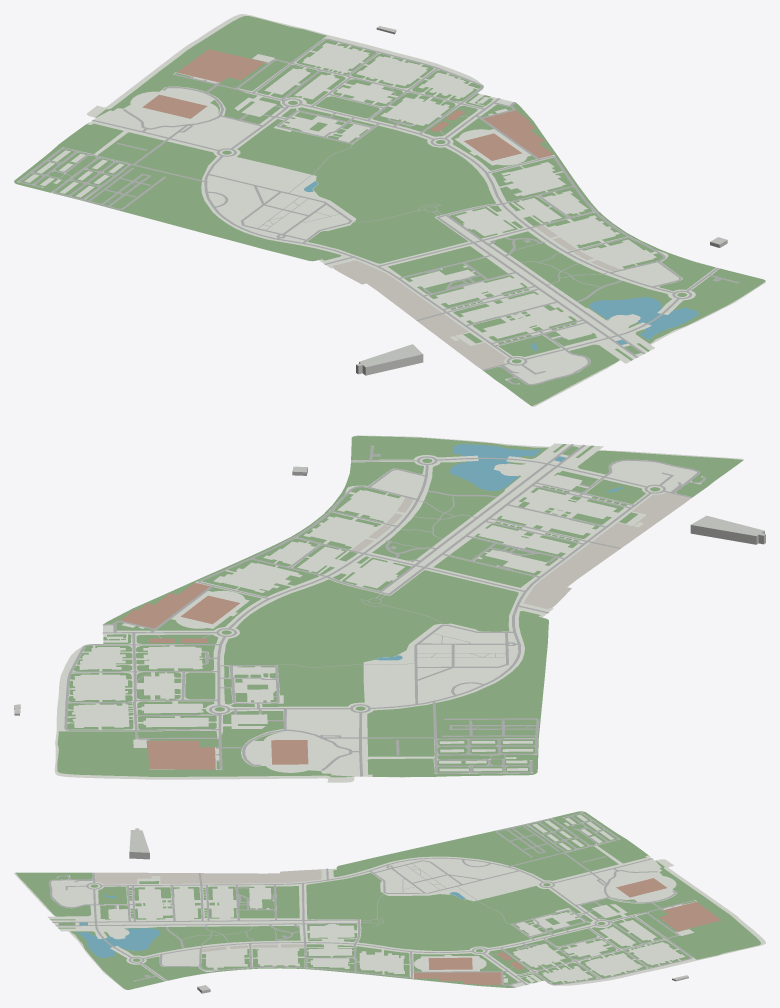
The model's file is campus-context.glb.
3 renders of one model, top to bottom at view 1: azimuth 30°, elevation 25°; view 2: azimuth 150°, elevation 25°; view 3: azimuth 270°, elevation 25°, orthographic. The views are drawn at different scales.
Parts seen in each view (by area): view 1: osm_way_89910254, osm_way_224938414, osm_relation_7226456, osm_way_225106603, osm_way_224937908, osm_way_224940397, osm_way_224939838, osm_way_224939486, osm_way_223859823, osm_way_224940111, osm_way_224937955, osm_way_278003316 (+9 smaller); view 2: osm_way_89910254, osm_way_224938414, osm_relation_7226456, osm_way_225106603, osm_way_224937908, osm_way_224940397, osm_way_224939838, osm_way_224939486, osm_way_223859823, osm_way_224940111, osm_way_278003316, osm_way_224937955 (+14 smaller); view 3: osm_way_89910254, osm_way_224938414, osm_relation_7226456, osm_way_225106603, osm_way_224937908, osm_way_224940397, osm_way_224939838, osm_way_224939486, osm_way_223859823, osm_way_224940111, osm_way_155412175_s0, osm_way_224937955 (+16 smaller).
Boxes of the visible parts, box(x1,y1,x2,y2) form: osm_way_89910254: box(17, 14, 765, 406); osm_way_224938414: box(237, 119, 495, 263); osm_relation_7226456: box(14, 123, 341, 261); osm_way_225106603: box(95, 16, 326, 117); osm_way_224937908: box(490, 231, 671, 320); osm_way_224940397: box(332, 260, 506, 369); osm_way_224939838: box(635, 268, 765, 343); osm_way_224939486: box(483, 344, 619, 406); osm_way_223859823: box(589, 297, 698, 340); osm_way_224940111: box(512, 103, 715, 291); osm_way_224937955: box(388, 246, 483, 276); osm_way_278003316: box(356, 344, 423, 375); osm_way_89910254: box(54, 435, 743, 782); osm_way_224938414: box(224, 570, 518, 706); osm_relation_7226456: box(367, 611, 548, 777); osm_way_225106603: box(57, 731, 354, 777); osm_way_224937908: box(372, 461, 520, 561); osm_way_224940397: box(524, 493, 690, 609); osm_way_224939838: box(351, 436, 548, 460); osm_way_224939486: box(578, 450, 743, 496); osm_way_223859823: box(450, 444, 542, 490); osm_way_224940111: box(104, 462, 423, 624); osm_way_278003316: box(690, 515, 765, 544); osm_way_224937955: box(433, 556, 534, 587); osm_way_89910254: box(14, 812, 765, 989); osm_way_224938414: box(306, 873, 580, 950); osm_relation_7226456: box(333, 811, 648, 880); osm_way_225106603: box(654, 860, 760, 959); osm_way_224937908: box(122, 925, 300, 956); osm_way_224940397: box(95, 869, 321, 884); osm_way_224939838: box(70, 931, 164, 989); osm_way_224939486: box(16, 872, 92, 916); osm_way_223859823: box(75, 928, 160, 957); osm_way_224940111: box(143, 956, 512, 987); osm_way_155412175_s0: box(96, 919, 360, 925); osm_way_224937955: box(276, 886, 299, 918).
Bounding box in the file's own units: 1074 × 18.22 × 1871.
